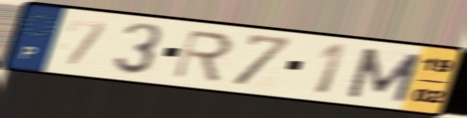1: (311, 41, 349, 97)
3: (110, 21, 164, 77)
7: (229, 32, 296, 89), (61, 18, 109, 67)
M: (342, 45, 425, 105)
R: (170, 28, 236, 84)
